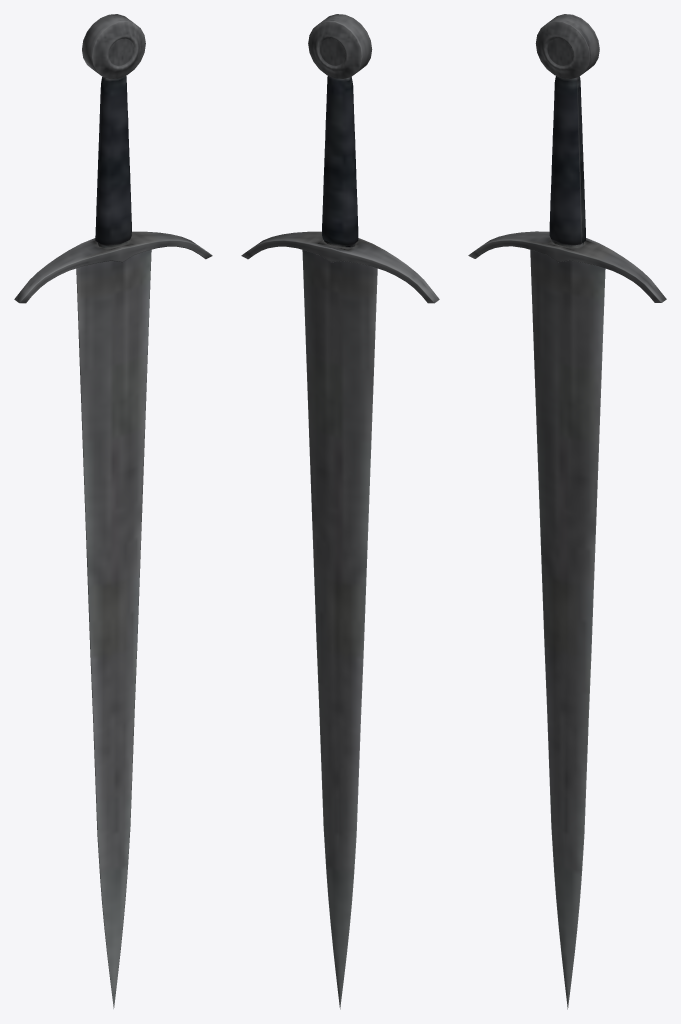
Rendered from weapon-wp_a_0201.glb.
3 renders of one model, left to right at view 1: azimuth 30°, elevation 25°; view 2: azimuth 150°, elevation 25°; view 3: azimuth 330°, elevation 25°, orthographic.
Parts seen in each view (by area): view 1: wp_a_0201_mesh; view 2: wp_a_0201_mesh; view 3: wp_a_0201_mesh.
Part boxes in pixels (box(x1,y1,x2,y2)): wp_a_0201_mesh: box(14, 14, 212, 1008); wp_a_0201_mesh: box(241, 14, 439, 1009); wp_a_0201_mesh: box(468, 14, 666, 1009).
Bounding box in the file's own units: 0.2084 × 1.02 × 0.0352.
Materials: 1 (1 with a texture image).
